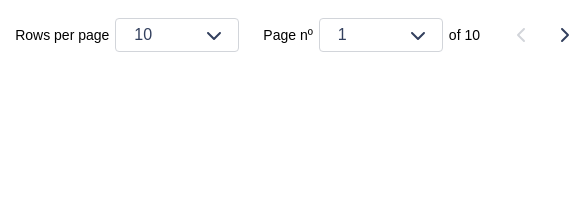
Test case: TablePaginationFooter › size selector › shows options to change page size
Click the dropdown named "Select rows per page": point(177, 35) x1=115 y1=18 x2=239 y2=52
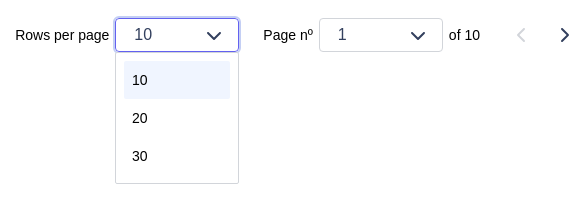
Expected: the text "10" is shown, x1=132 y1=72 x2=148 y2=88
Expected: the text "20" is shown, x1=132 y1=110 x2=148 y2=126
Expected: the text "30" is shown, x1=132 y1=148 x2=148 y2=164
